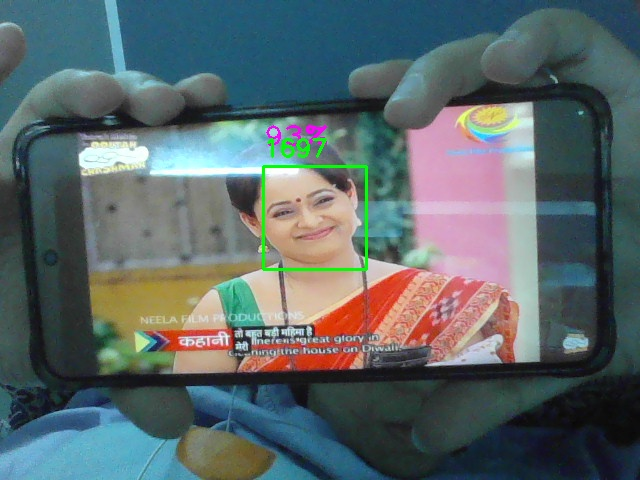fake: (263, 166, 367, 270)
